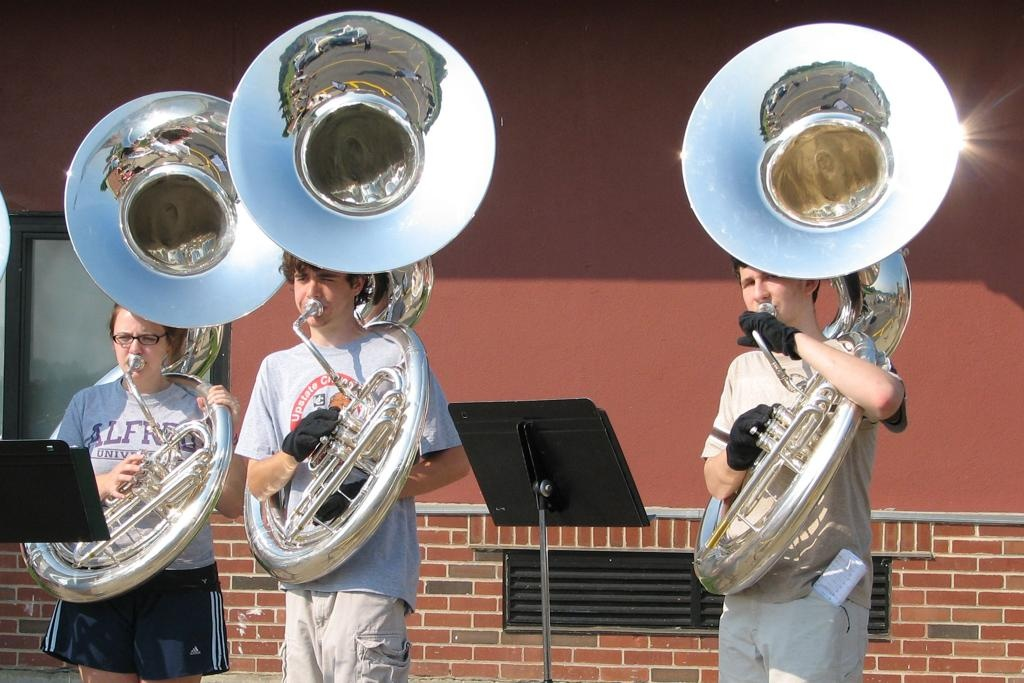human_face: (740, 242, 826, 336), (292, 258, 356, 330), (112, 302, 168, 382)
